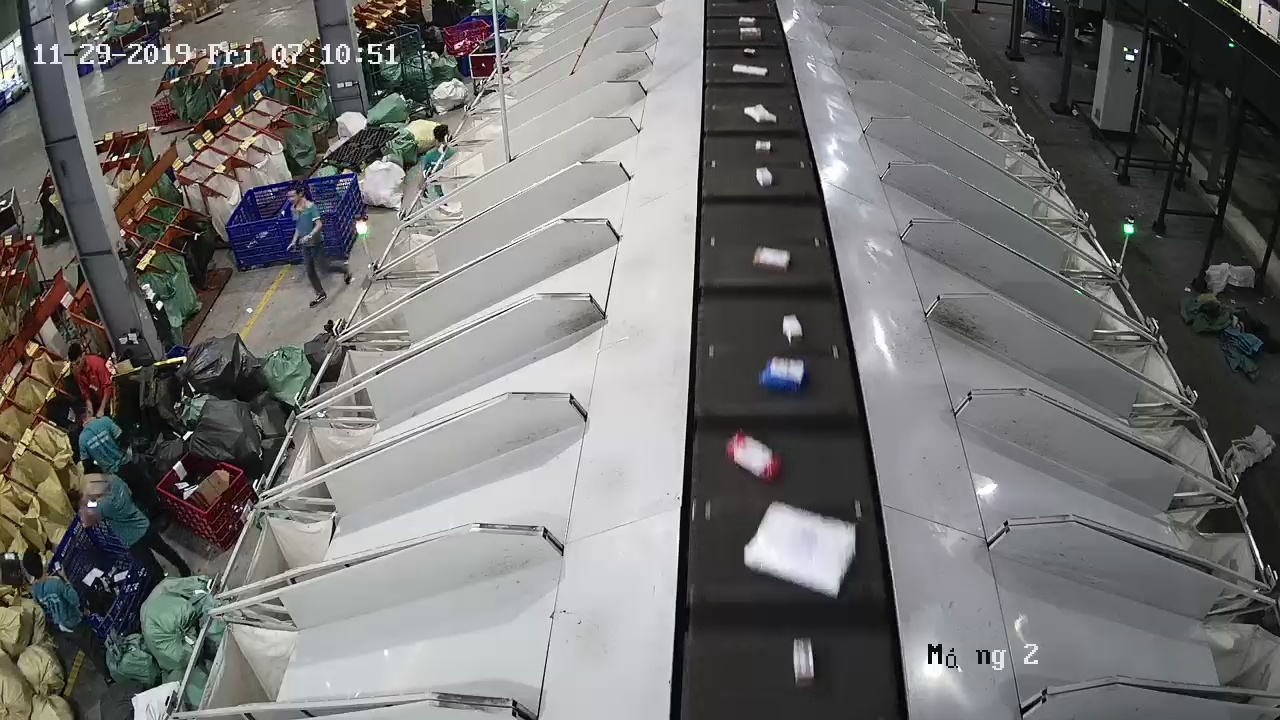parcel: (743, 500, 856, 600), (724, 430, 782, 485), (758, 355, 811, 394), (792, 637, 815, 688), (752, 245, 791, 273), (744, 103, 777, 124), (782, 313, 803, 339), (755, 166, 773, 187), (754, 139, 772, 155)
